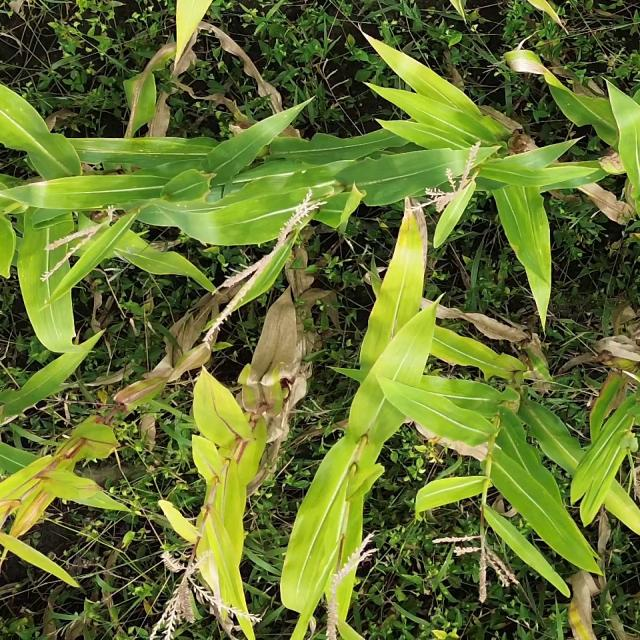northern-leaf-blight: (516, 336, 563, 401)
southern-leaf-blight: (509, 159, 610, 279), (88, 124, 223, 186), (172, 192, 290, 245)
